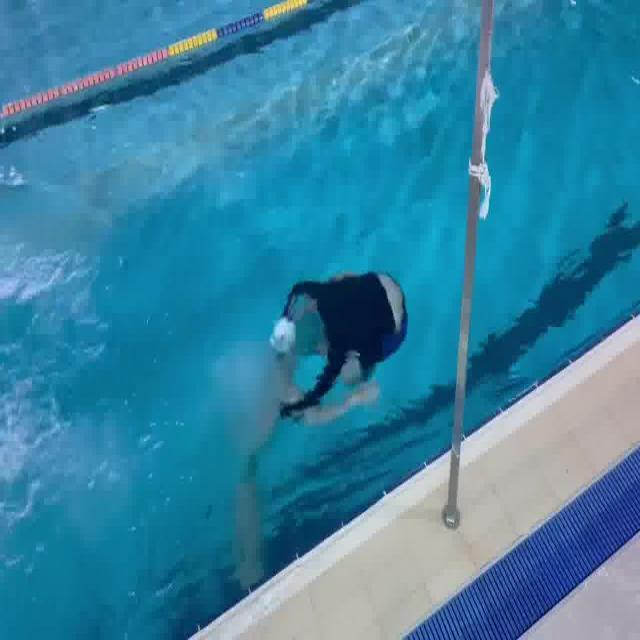drowning: (272, 240, 418, 418)
